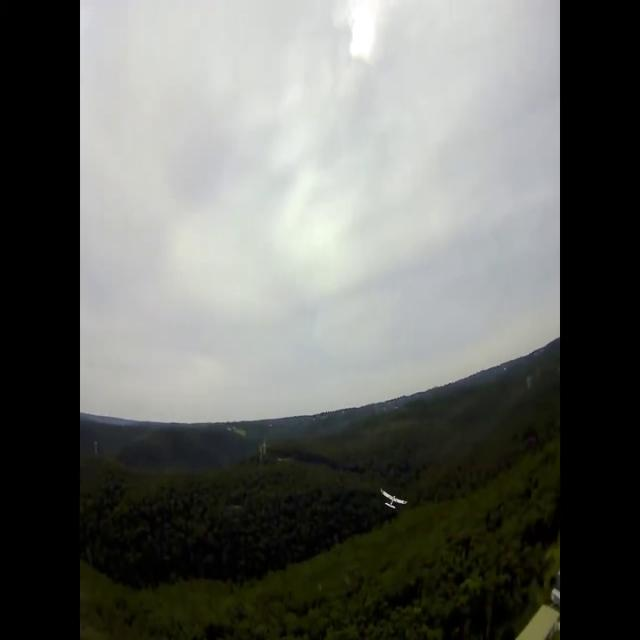iha: (375, 489, 402, 510)
